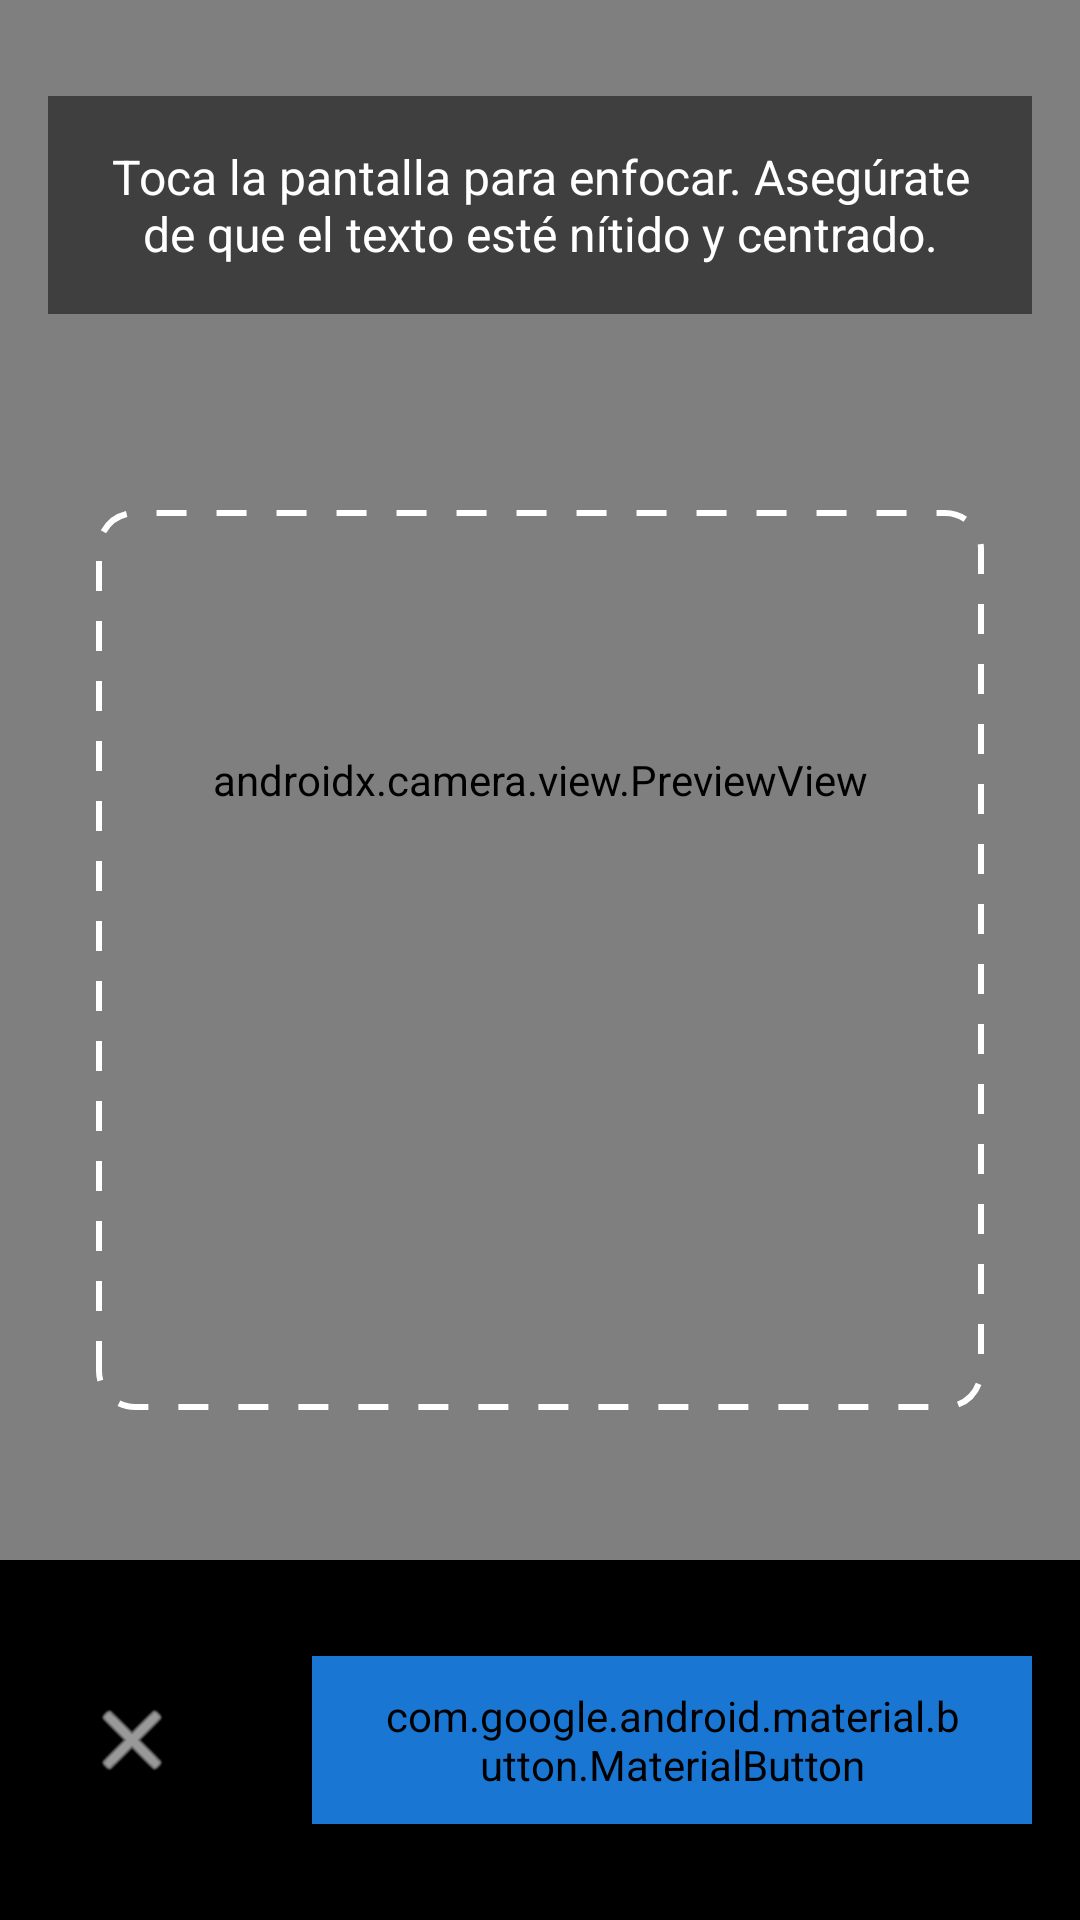

Screen size 1080 x 1920. Icon name, then its center in pixels as (x,y):
Cerrar cámara: (132,1740)
